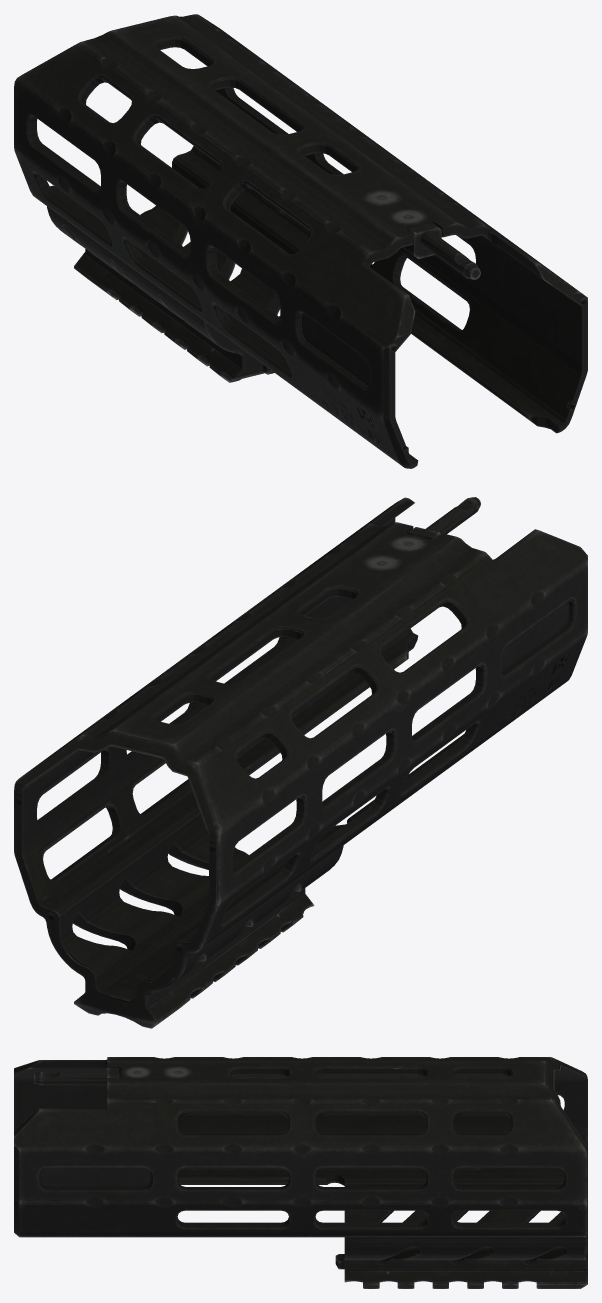
3 renders of one model, top to bottom at view 1: azimuth 30°, elevation 25°; view 2: azimuth 150°, elevation 25°; view 3: azimuth 270°, elevation 25°, orthographic. The views are drawn at different scales.
Visible parts, largest first — view 1: TW_5c5db5fc2e2216000f1b2842_PZ_Import; view 2: TW_5c5db5fc2e2216000f1b2842_PZ_Import; view 3: TW_5c5db5fc2e2216000f1b2842_PZ_Import.
Part boxes in pixels (x1,y1,x2,y2): TW_5c5db5fc2e2216000f1b2842_PZ_Import: [14, 14, 587, 468]; TW_5c5db5fc2e2216000f1b2842_PZ_Import: [14, 497, 587, 1028]; TW_5c5db5fc2e2216000f1b2842_PZ_Import: [14, 1057, 587, 1288].
Size of the model in its own units: 0.0304 by 0.0954 by 0.0375.
1 material, 1 textured.
